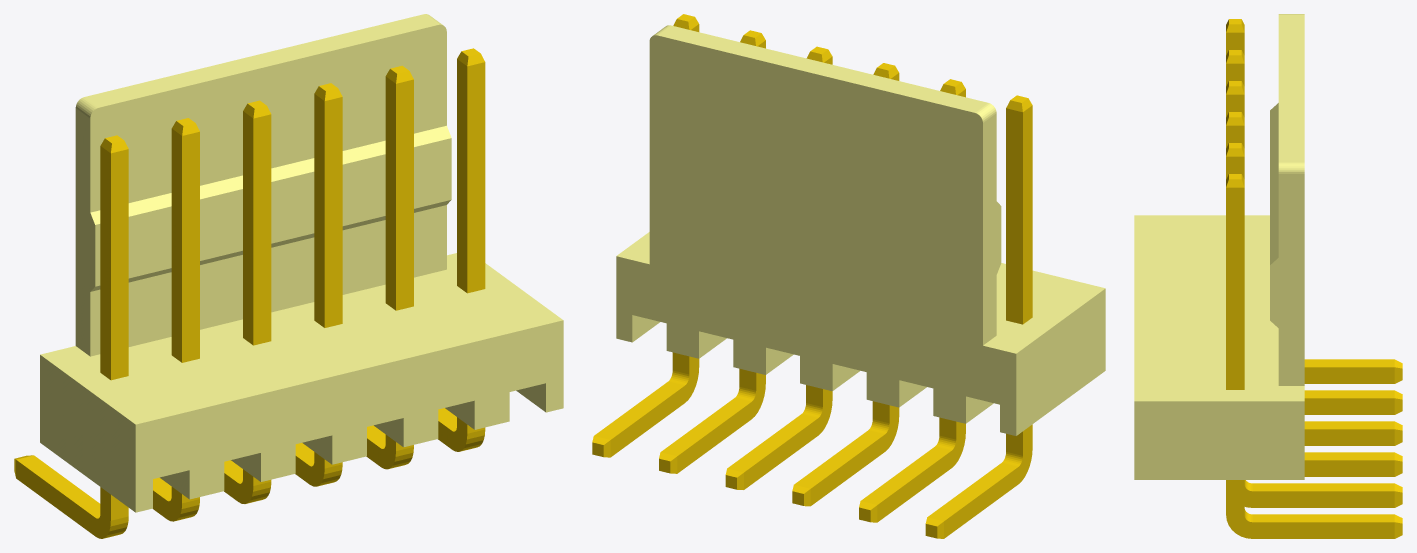
The model's file is DS1070-6MR (WF-6RA CONNFLY).obj.
The picture shows the model from 3 angles, left to right: view 1: azimuth 30°, elevation 25°; view 2: azimuth 150°, elevation 25°; view 3: azimuth 270°, elevation 25°; orthographic projection. The views are drawn at different scales.
Parts seen in each view (by area): view 1: DS1070-6MR_(WF-6RA_CONNFLY); view 2: DS1070-6MR_(WF-6RA_CONNFLY); view 3: DS1070-6MR_(WF-6RA_CONNFLY).
Boxes of the visible parts, box(x1,y1,x2,y2) form: DS1070-6MR_(WF-6RA_CONNFLY): box(14, 14, 563, 538); DS1070-6MR_(WF-6RA_CONNFLY): box(592, 14, 1105, 538); DS1070-6MR_(WF-6RA_CONNFLY): box(1134, 14, 1402, 538).
Bounding box in the file's own units: 0.0115 × 0.0107 × 0.00705.
